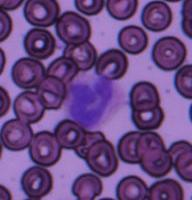N: (64, 74, 125, 130)
